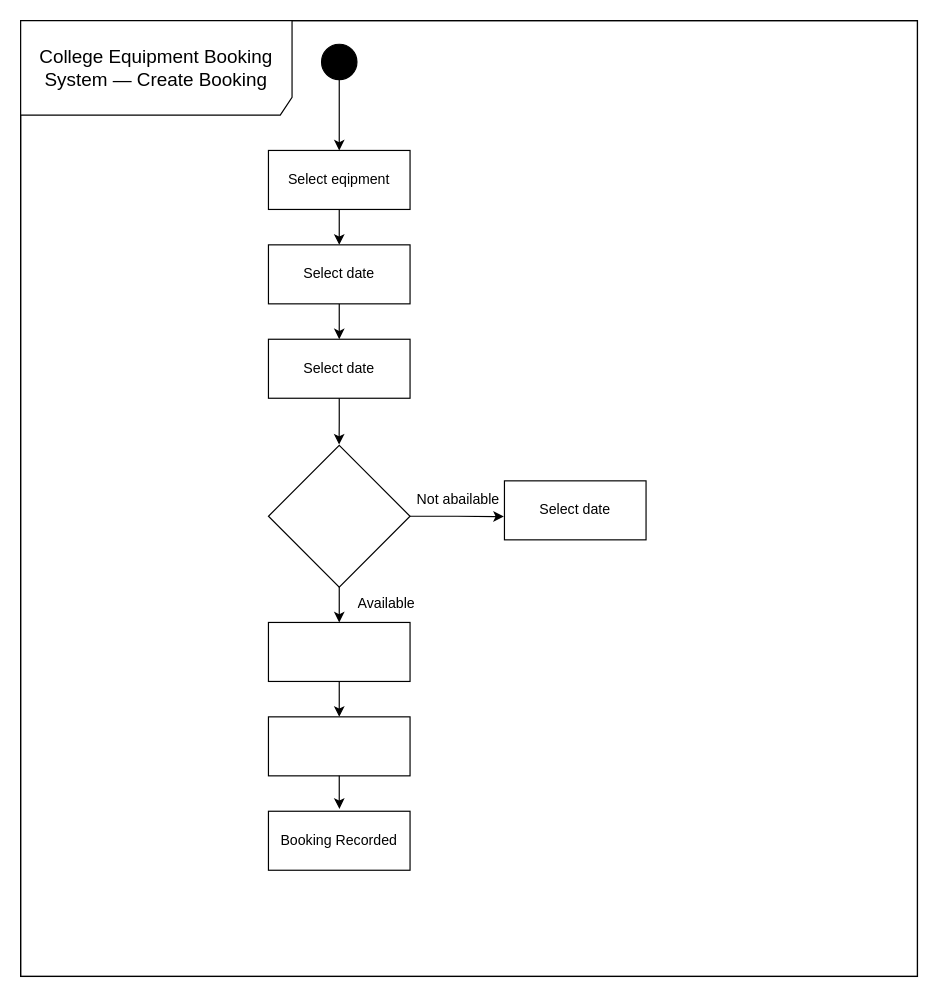
The diagram is 938 pixels wide and 997 high, and some of its shapes have lost their labels. The box of each missing label's shape, as (x1, y1, x2, y2) in pixels:
Enter Booking Details: (267, 621, 410, 681)
Is equipment available?: (267, 444, 410, 587)
Submit Booking: (267, 716, 410, 776)
